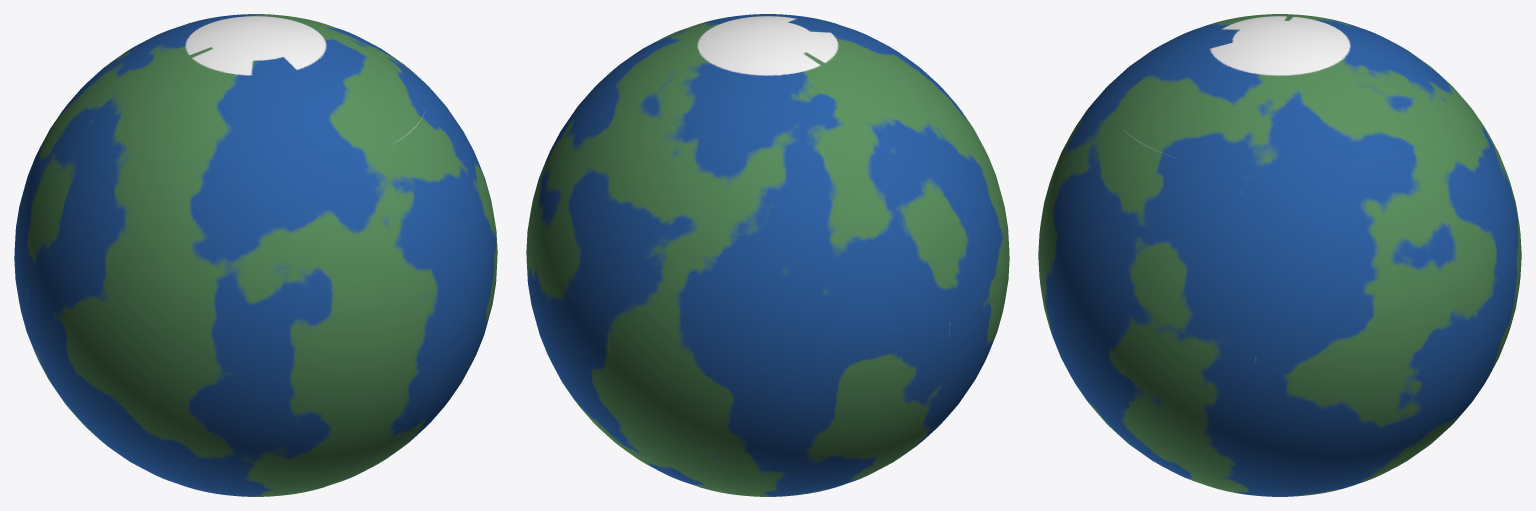
Rendered from GlobeSphere.fbx.
The picture shows the model from 3 angles, left to right: view 1: azimuth 30°, elevation 25°; view 2: azimuth 150°, elevation 25°; view 3: azimuth 270°, elevation 25°; orthographic projection.
Parts seen in each view (by area): view 1: Sphere_Baked; view 2: Sphere_Baked; view 3: Sphere_Baked.
Part boxes in pixels (x1,y1,x2,y2): Sphere_Baked: (14,14,497,496); Sphere_Baked: (526,14,1009,496); Sphere_Baked: (1038,14,1521,496).
Bounding box in the file's own units: 100 × 100 × 100.
